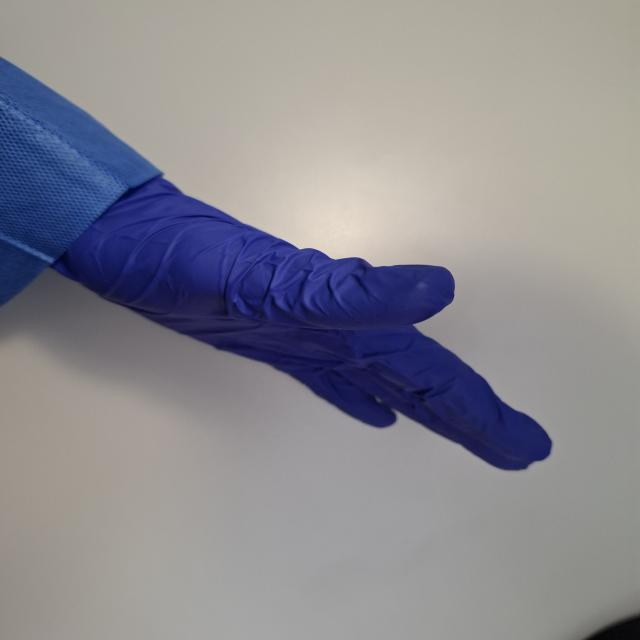glove_on: (39, 173, 560, 479)
